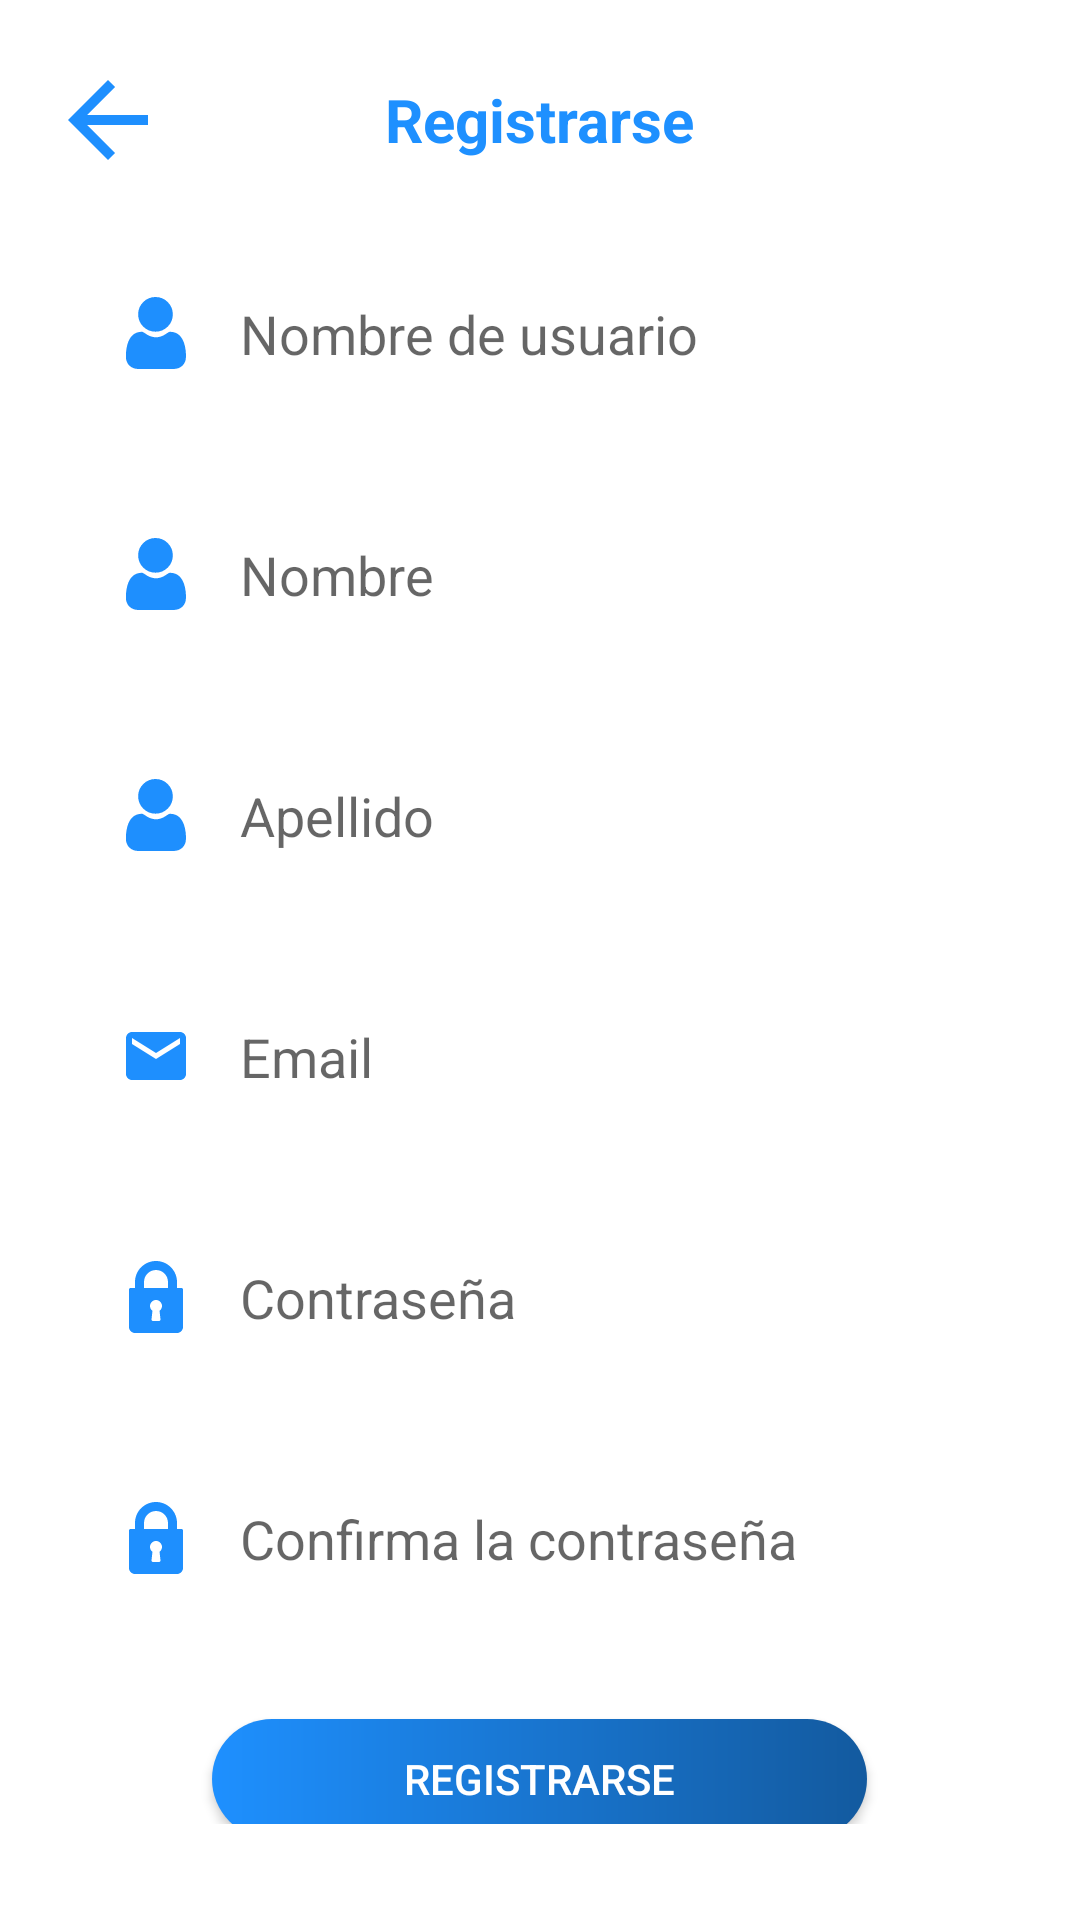

Where icons sit on this 1080px x 1920px app screen, as bbox=(x1, y1, x2, y2):
back: bbox=(68, 80, 148, 160)
